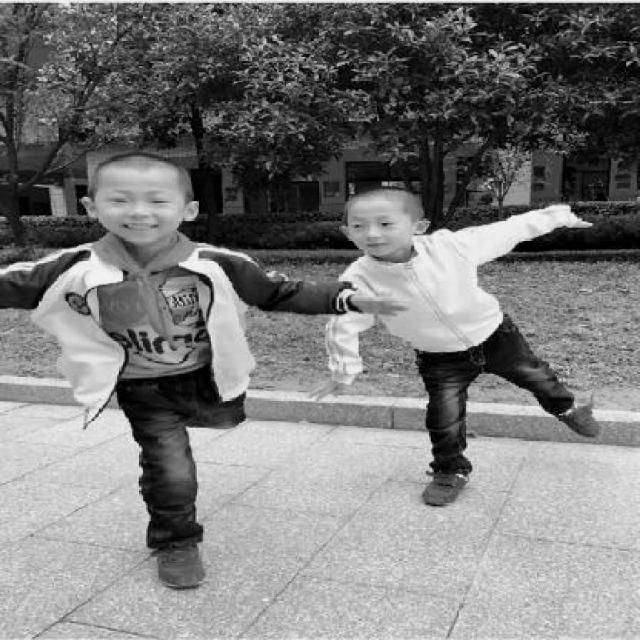Person: (30, 146, 254, 580), (323, 159, 515, 503)
